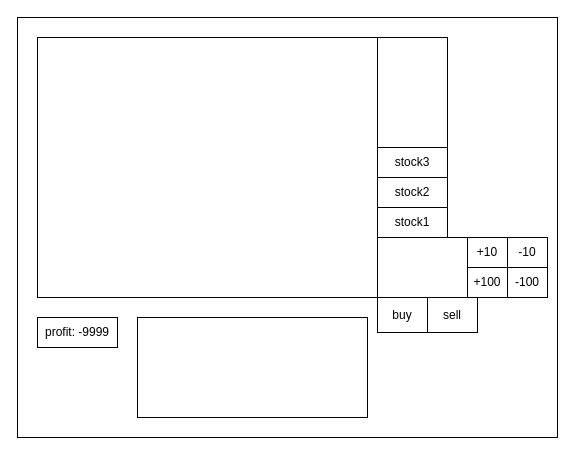
This 575x455 diagram has some shape labels left out. Here are the shapes that lost their labels. From the top down, the centre of each, then its label:
At (x=412, y=92): "MORE STOCK".
At (x=207, y=167): "graph data".
At (x=422, y=267): "volume to buy/sell:".
At (x=252, y=367): "bonsai buddy interactions".
